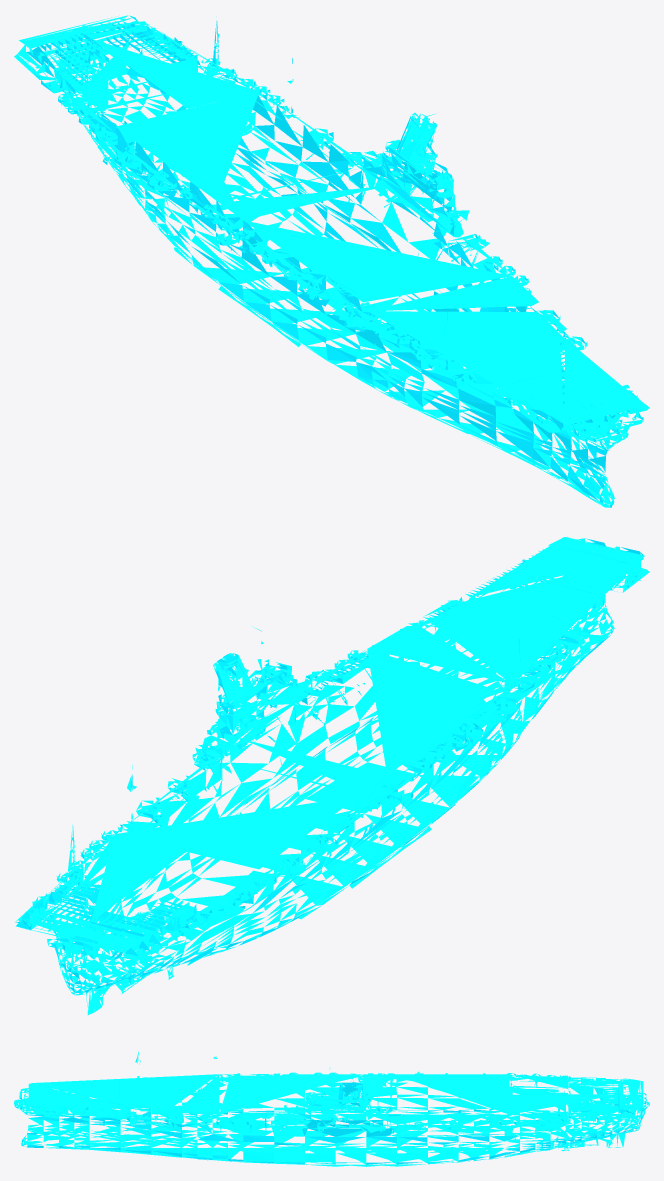
The model's file is Azur_Shinano.glb.
3 views of the same model, one above another, from view 1: azimuth 30°, elevation 25°; view 2: azimuth 150°, elevation 25°; view 3: azimuth 270°, elevation 25° (orthographic). The views are drawn at different scales.
Bounding box in the file's own units: 3.87 × 3.2 × 17.72.
